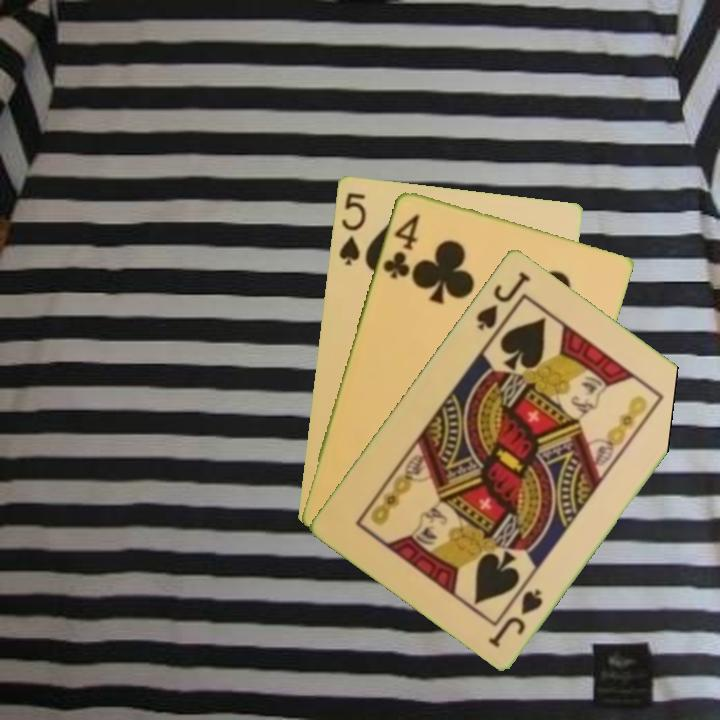4c: (379, 210, 422, 282)
5s: (335, 189, 369, 268)
Js: (472, 267, 534, 333), (484, 584, 546, 650)
